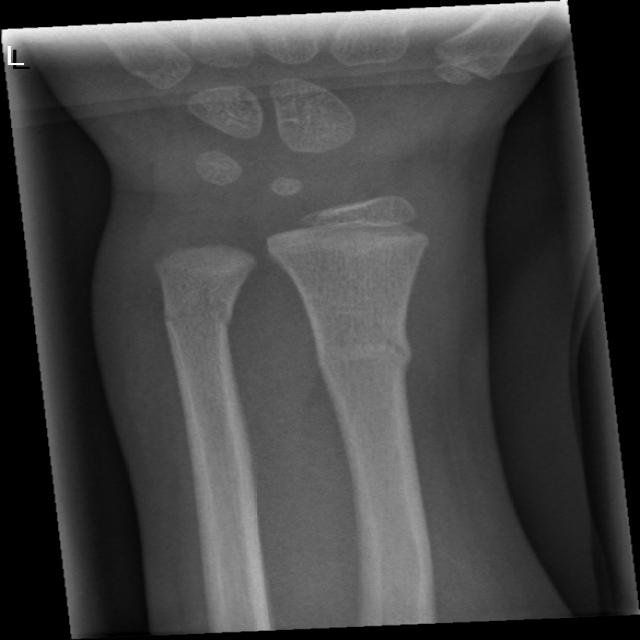radius fracture: (294, 312, 437, 440)
ulna fracture: (151, 278, 262, 385)
